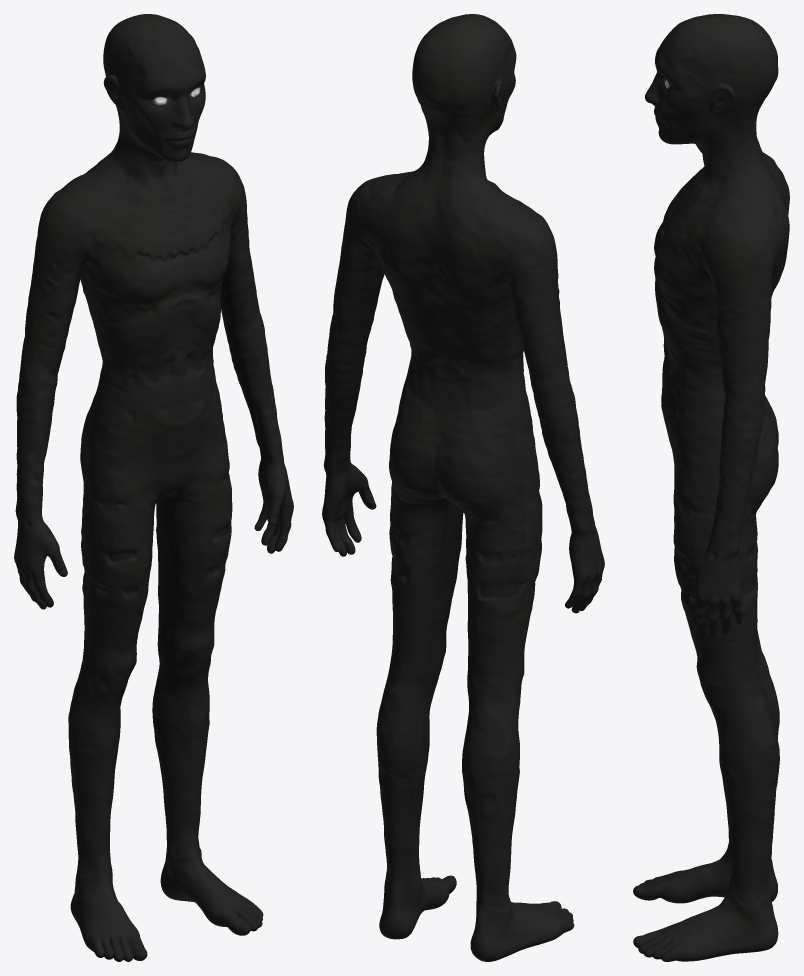
The model's file is 27-el-hombre-alto-del-hueco.-optimized.glb.
3 views of the same model, side by side, from view 1: azimuth 30°, elevation 25°; view 2: azimuth 150°, elevation 25°; view 3: azimuth 270°, elevation 25° (orthographic).
Parts seen in each view (by area): view 1: tripo_node_957f80f5-b66d-4daf-b772-9de75b26641d; view 2: tripo_node_957f80f5-b66d-4daf-b772-9de75b26641d; view 3: tripo_node_957f80f5-b66d-4daf-b772-9de75b26641d.
Boxes of the visible parts, x1=… form: tripo_node_957f80f5-b66d-4daf-b772-9de75b26641d: x1=14, y1=14, x2=293, y2=961; tripo_node_957f80f5-b66d-4daf-b772-9de75b26641d: x1=322, y1=14, x2=604, y2=961; tripo_node_957f80f5-b66d-4daf-b772-9de75b26641d: x1=633, y1=14, x2=789, y2=961.
Size of the model in its own units: 0.3123 by 1 by 0.1563.
Materials: 1 (1 with a texture image).
